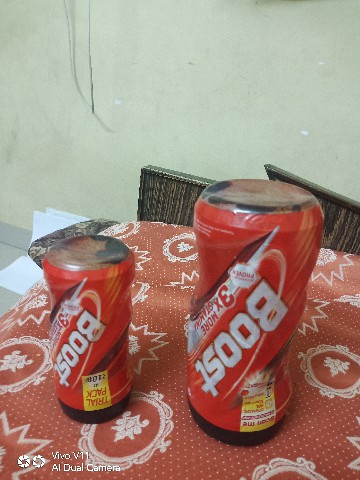boost big: (175, 168, 332, 449)
boost small: (33, 230, 143, 434)
